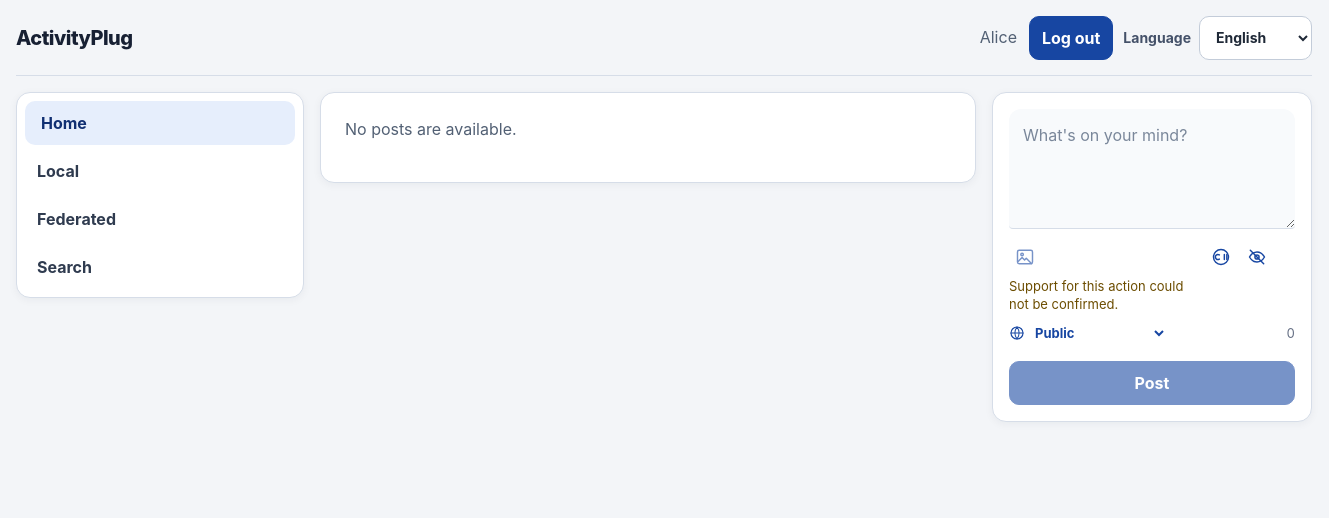
Scenario: App › keeps legacy create controls available until input constraints are advertised
Expected: the text box named "Post content" is enabled, [1009,109,1295,229]
Click the button named "Content warning" at (1221, 257), box [1205,241,1237,273]
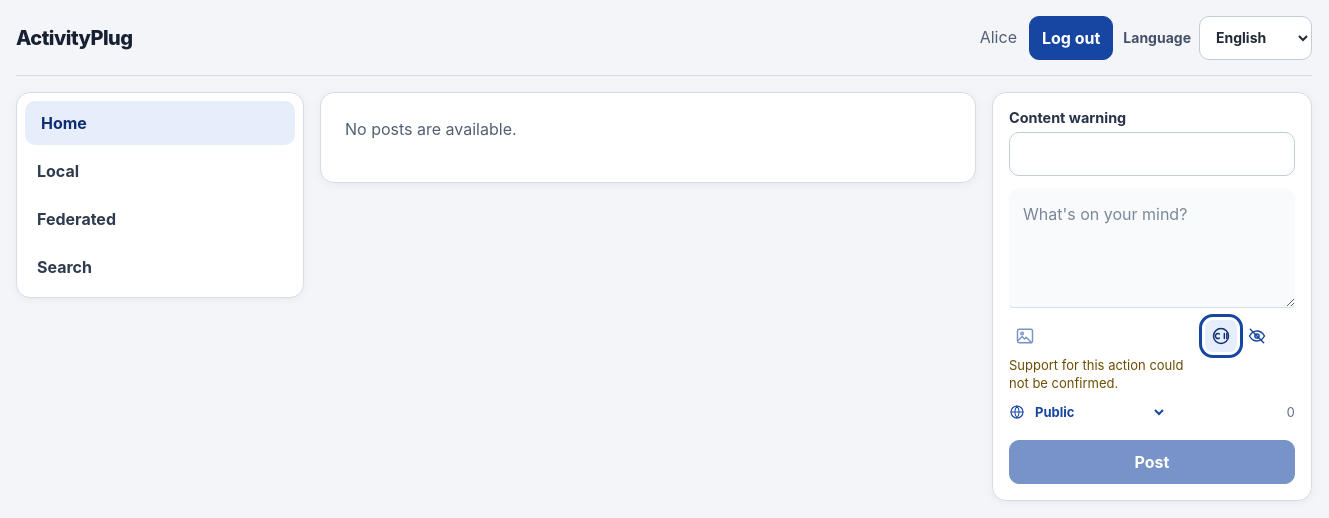
Expected: the checkbox named "Mark media as sensitive" is enabled, [1247,326,1267,346]
Now the field named "Content warning" is enabled, box [1009,132,1295,176]
